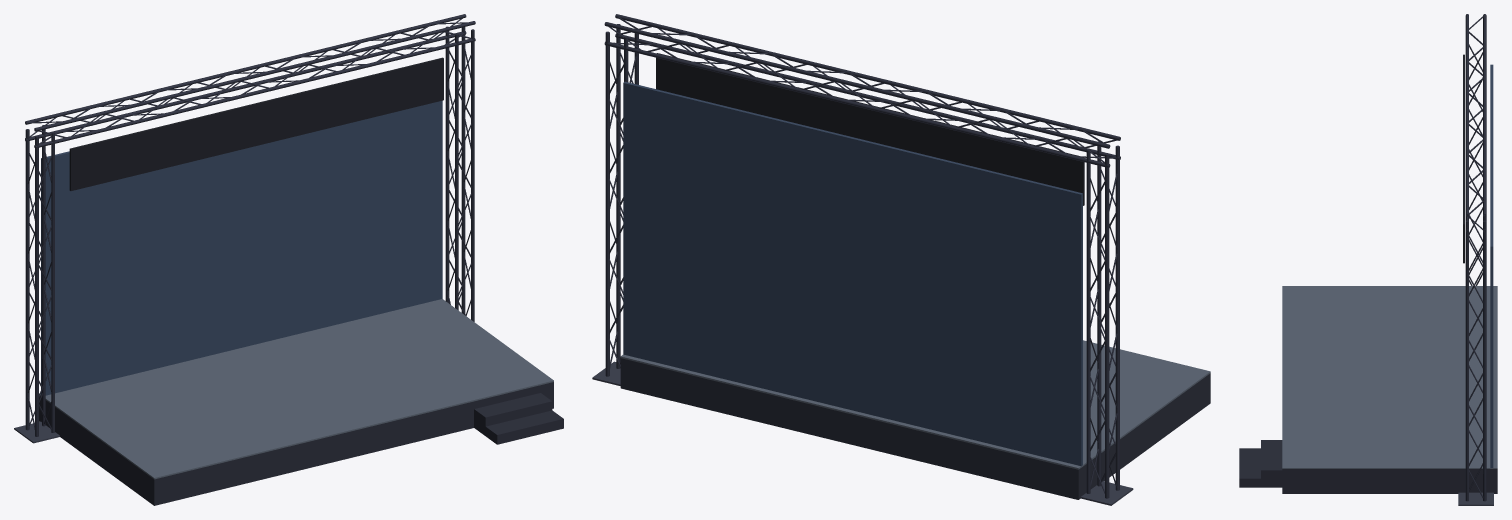
File: evt-011.glb
3 views of the same model, side by side, from view 1: azimuth 30°, elevation 25°; view 2: azimuth 150°, elevation 25°; view 3: azimuth 270°, elevation 25° (orthographic). The views are drawn at different scales.
Parts seen in each view (by area): view 1: curtain_fabric, office_carpet, truss_navy, sign_panel, plastic_dark; view 2: curtain_fabric, truss_navy, plastic_dark, sign_panel, office_carpet, dark_steel; view 3: office_carpet, plastic_dark, truss_navy, curtain_fabric, dark_steel, sign_panel.
Part boxes in pixels (x1,y1,x2,y2): curtain_fabric: (41, 100, 442, 395); office_carpet: (39, 299, 553, 479); truss_navy: (25, 14, 475, 436); sign_panel: (69, 57, 443, 190); plastic_dark: (39, 382, 563, 505); curtain_fabric: (623, 81, 1082, 465); truss_navy: (604, 14, 1120, 498); plastic_dark: (620, 358, 1210, 499); sign_panel: (656, 53, 1084, 205); office_carpet: (620, 340, 1210, 469); dark_steel: (592, 361, 1133, 505); office_carpet: (1282, 286, 1497, 468); plastic_dark: (1239, 440, 1497, 493); truss_navy: (1465, 14, 1486, 501); curtain_fabric: (1490, 64, 1493, 467); dark_steel: (1458, 492, 1493, 505); sign_panel: (1463, 54, 1464, 263).
Size of the model in its own units: 6.8 by 4.44 by 3.6.
